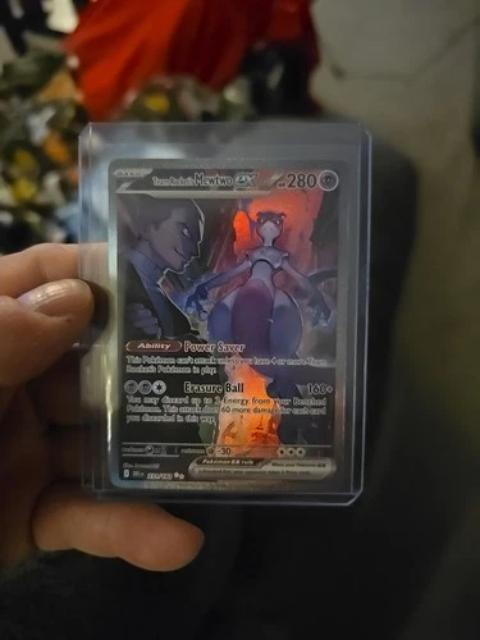Card: (104, 153, 359, 498)
Name: (148, 167, 265, 194)
